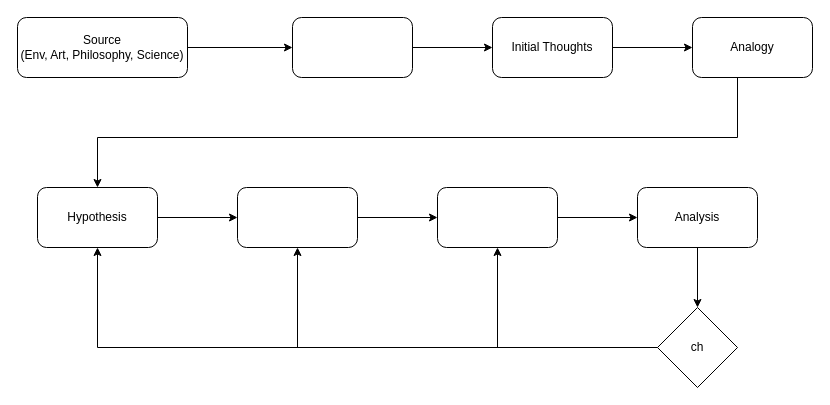
Some shapes in this 830 by 405 pixel diagram are drawn without their labels. Here are the shapes that lost their labels. From the top down, the centre of each, then its label:
At pixel 352 47: "Observation".
At pixel 297 217: "Model".
At pixel 497 217: "Experiment".
